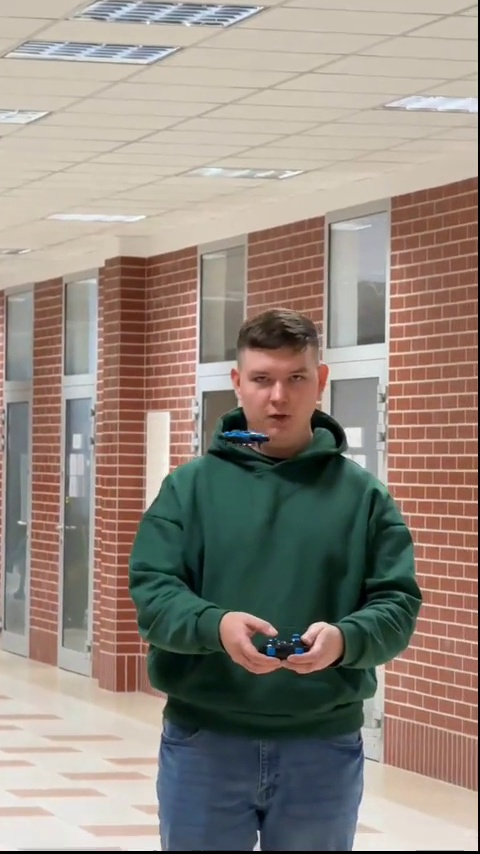drone: (218, 429, 273, 451)
no vest: (127, 309, 427, 854)
